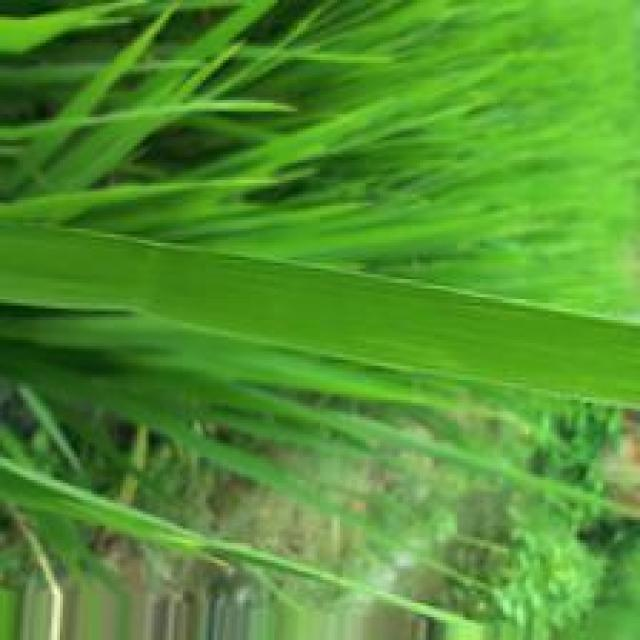HealthyLeaf: (4, 219, 635, 401)
